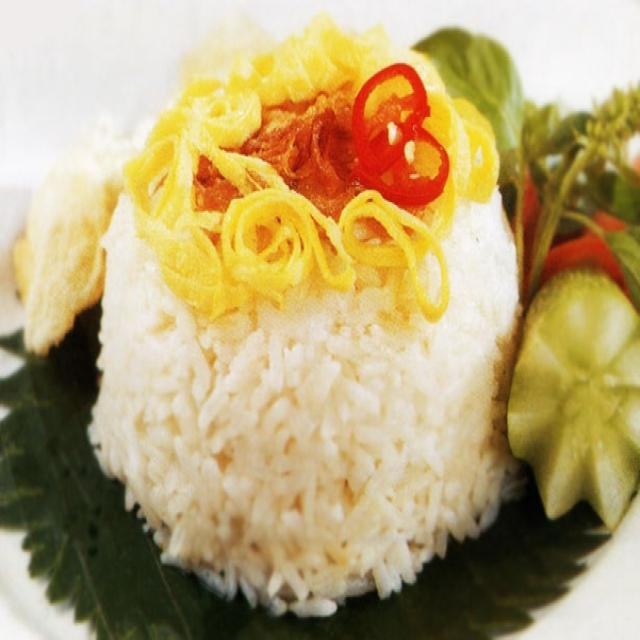米饭主食: (35, 20, 606, 612)
